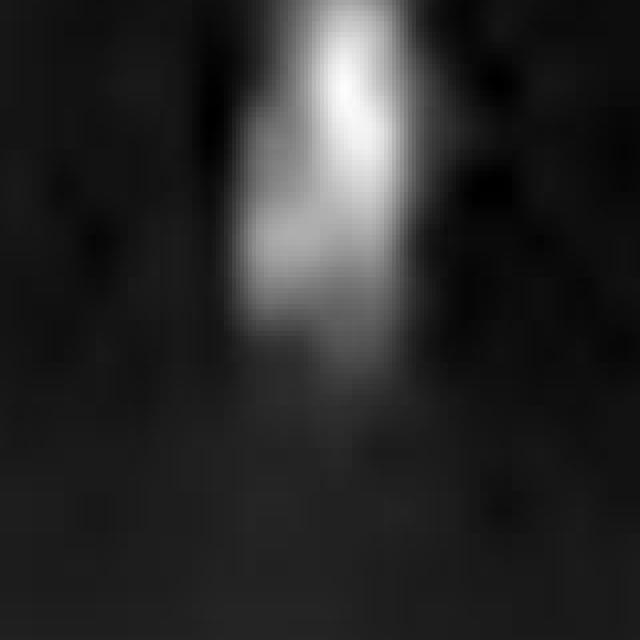person: (205, 1, 445, 412)
